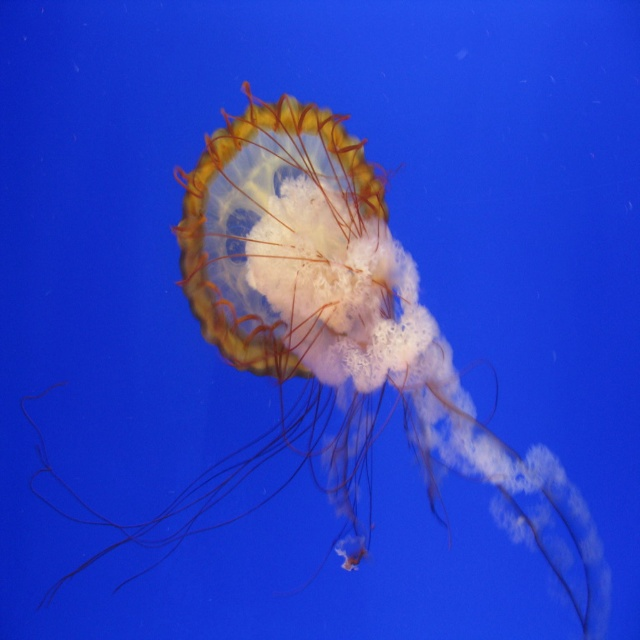Jellyfish: (164, 73, 408, 465)
